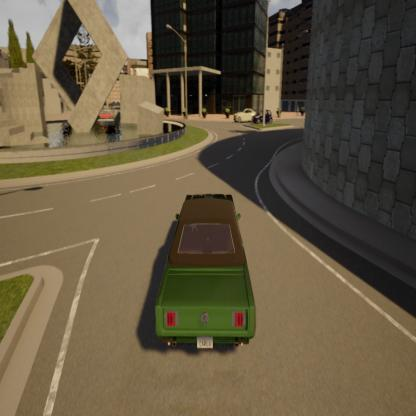Cars: (152, 182, 259, 363), (232, 104, 256, 127), (251, 105, 274, 128)
